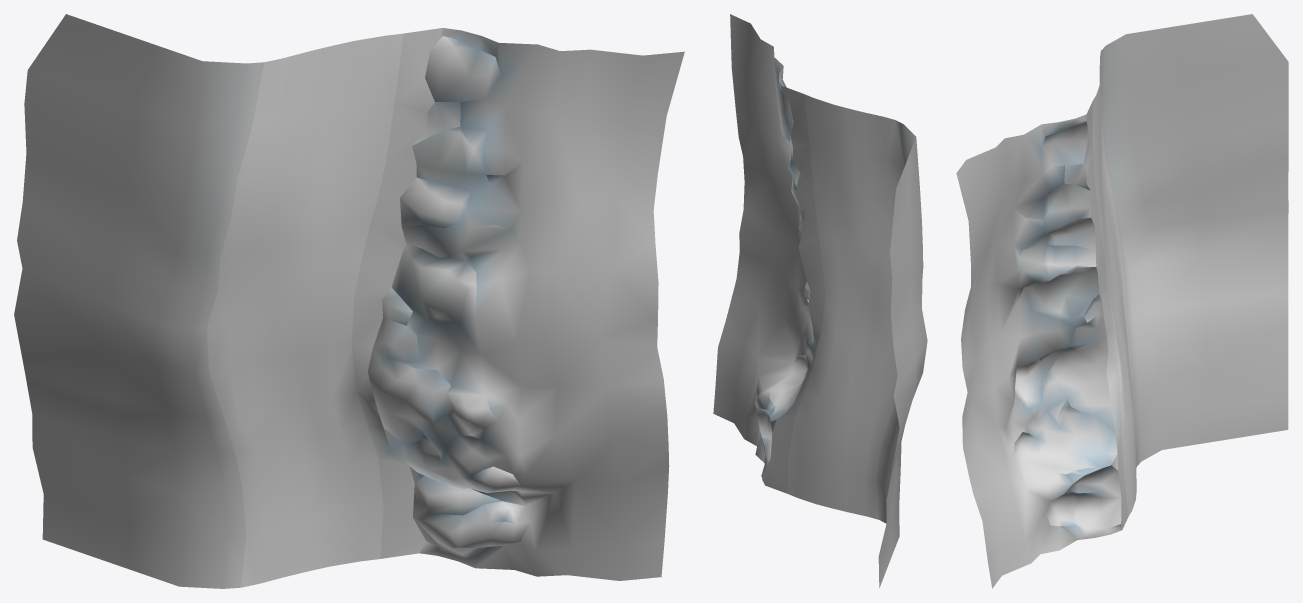
The model's file is Snow_RampStraightA_lod1.glb.
3 views of the same model, side by side, from view 1: azimuth 30°, elevation 25°; view 2: azimuth 150°, elevation 25°; view 3: azimuth 270°, elevation 25° (orthographic). The views are drawn at different scales.
Visible parts, largest first — view 1: MeshNode_0, MeshNode_1; view 2: MeshNode_0, MeshNode_1; view 3: MeshNode_0, MeshNode_1.
Part boxes in pixels (x1,y1,x2,y2): MeshNode_0: (14, 14, 684, 588); MeshNode_1: (207, 33, 403, 587); MeshNode_0: (713, 14, 927, 587); MeshNode_1: (787, 94, 904, 519); MeshNode_0: (956, 14, 1288, 588); MeshNode_1: (1092, 51, 1136, 516).
Size of the model in its own units: 112 by 128 by 92.68.
